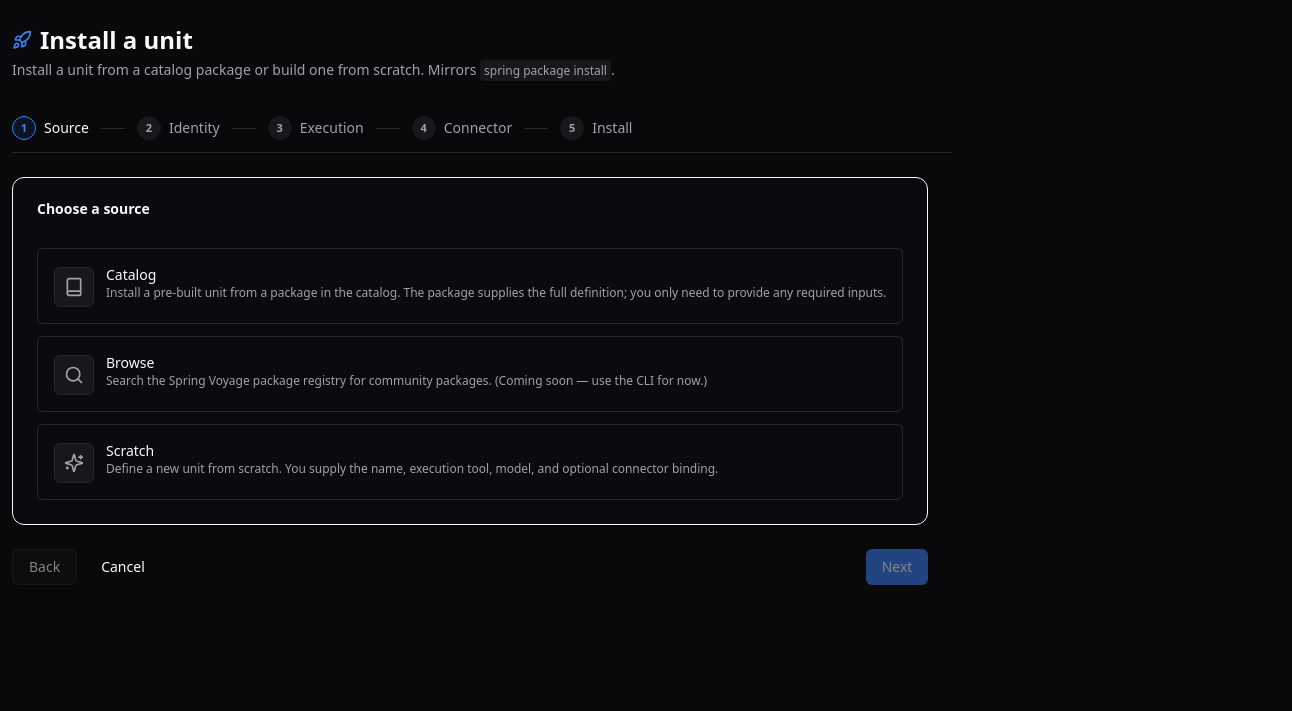
CreateUnitPage — step 1: Source selection (#1563) › advances to the scratch Identity step when Scratch is selected
Click the button with test id "source-card-scratch".
click(470, 462)  # box 37,424 -> 903,500
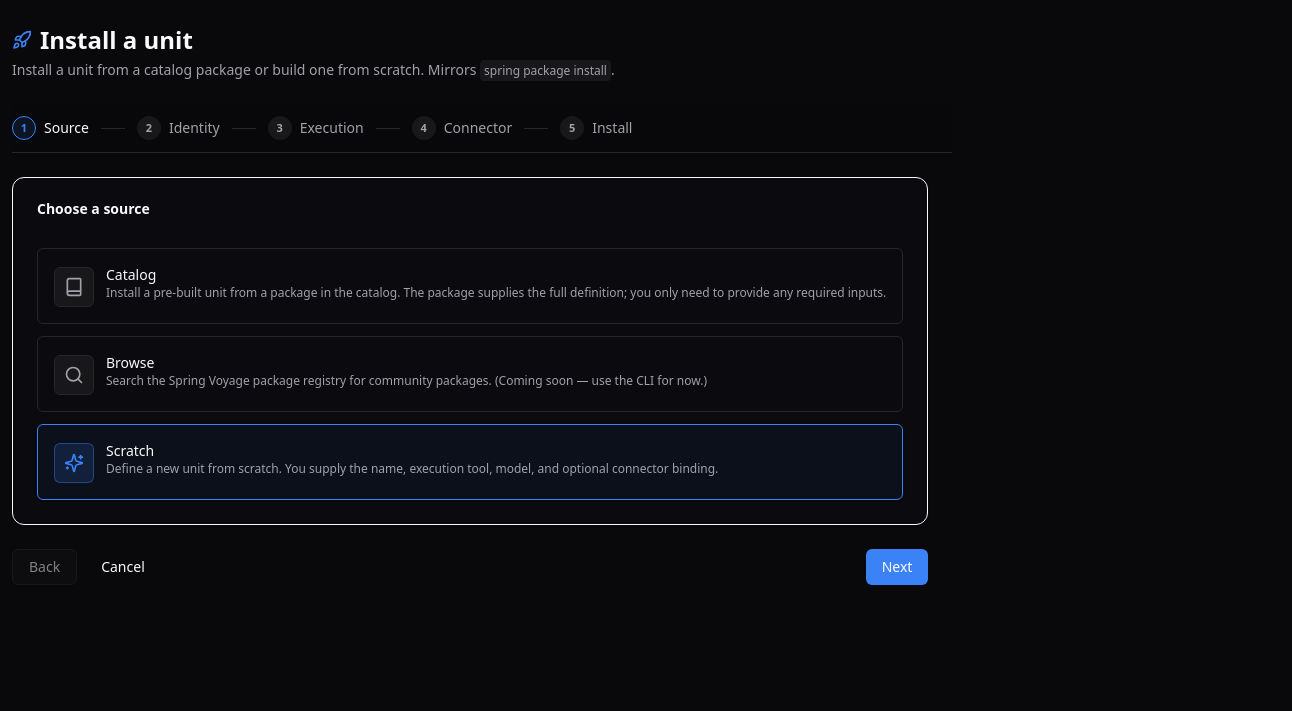
Click the button "Next".
click(897, 567)  # box 866,549 -> 928,585
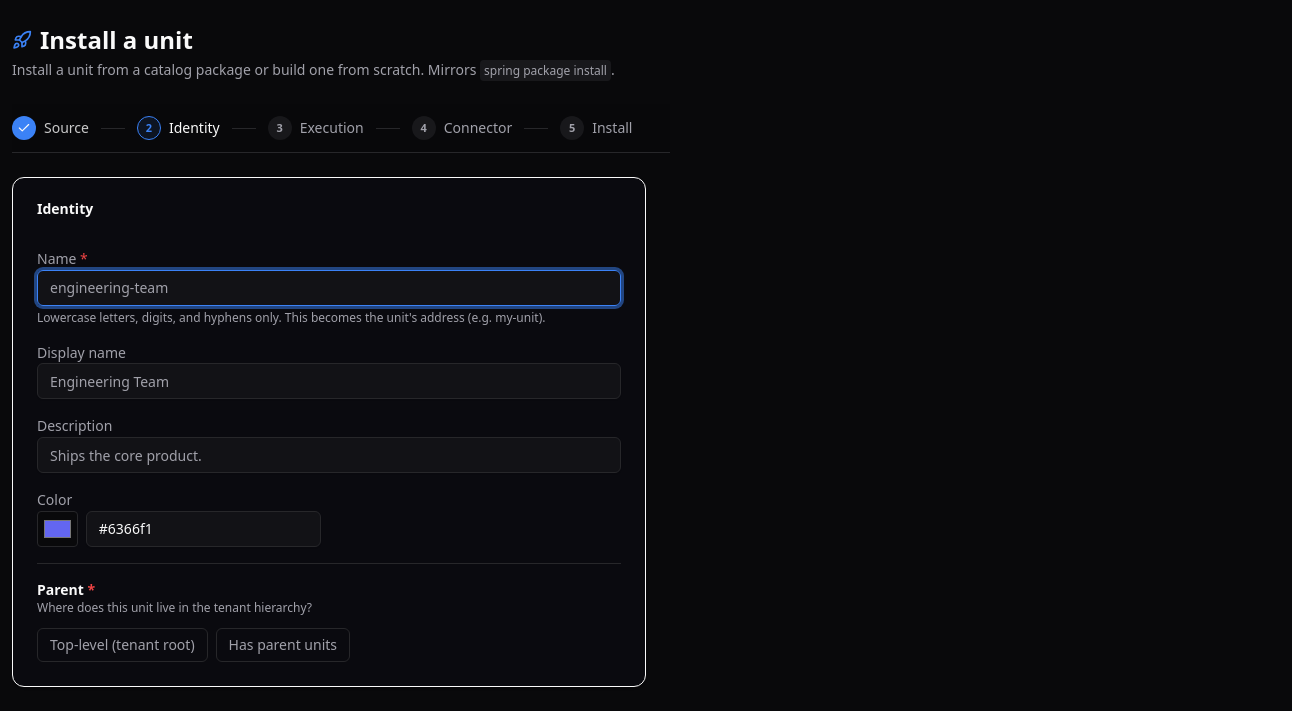
Check: the field with placeholder "engineering-team" is shown, box 37,270 -> 621,306
